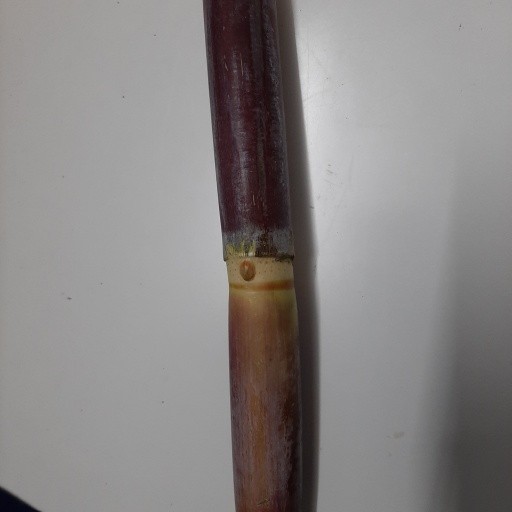Bud: (239, 259, 255, 281)
